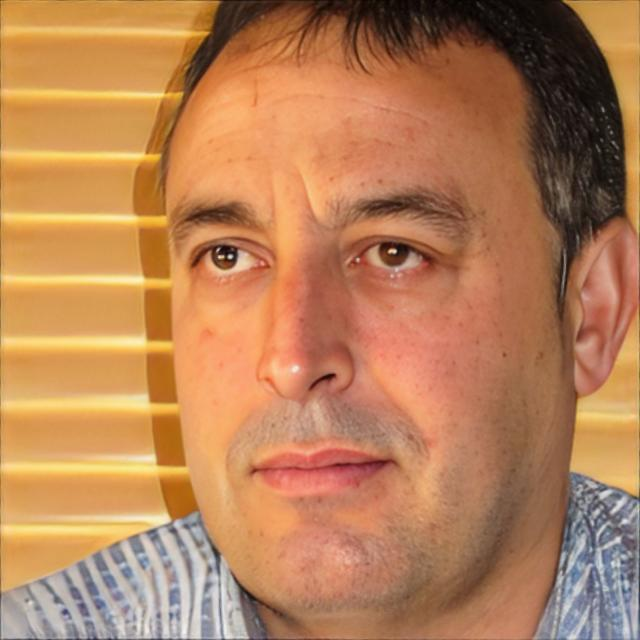neutral: (160, 0, 570, 619)
